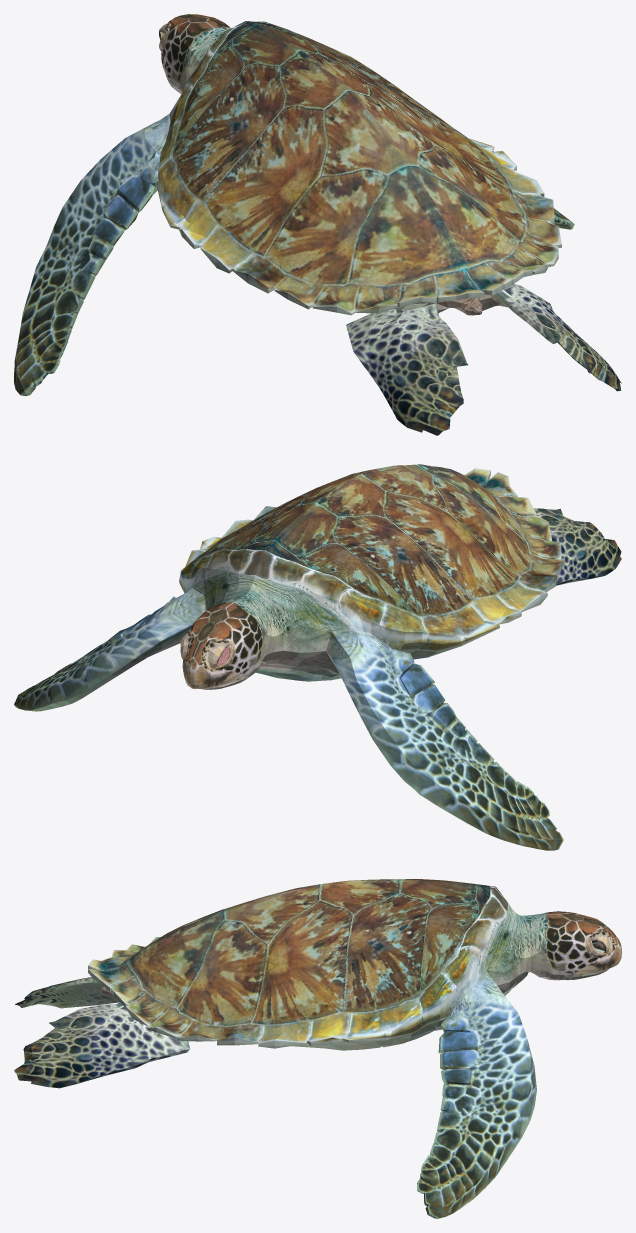
File: frame_26.obj
The picture shows the model from 3 angles, top to bottom: view 1: azimuth 30°, elevation 25°; view 2: azimuth 150°, elevation 25°; view 3: azimuth 270°, elevation 25°; orthographic projection. The views are drawn at different scales.
Parts seen in each view (by area): view 1: Turtle GEO Turtle; view 2: Turtle GEO Turtle; view 3: Turtle GEO Turtle.
Part boxes in pixels (box(x1,y1,x2,y2)): Turtle GEO Turtle: box(14, 14, 621, 435); Turtle GEO Turtle: box(14, 464, 621, 850); Turtle GEO Turtle: box(14, 879, 621, 1218).
Size of the model in its own units: 88.3 by 43.75 by 99.53.
Materials: 1 (1 with a texture image).
